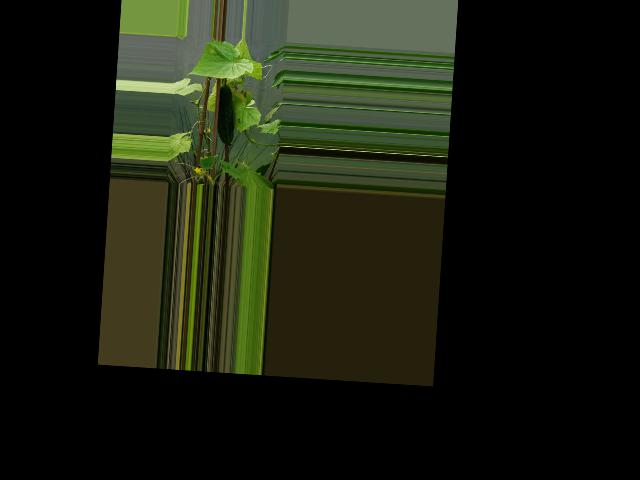cucumber: (215, 84, 236, 145)
